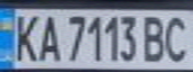1: (84, 11, 106, 62), (103, 12, 121, 62)
3: (118, 11, 142, 63)
7: (63, 11, 84, 62)
A: (33, 11, 63, 63)
B: (139, 12, 172, 63)
C: (160, 11, 193, 63)
K: (6, 10, 42, 63)
